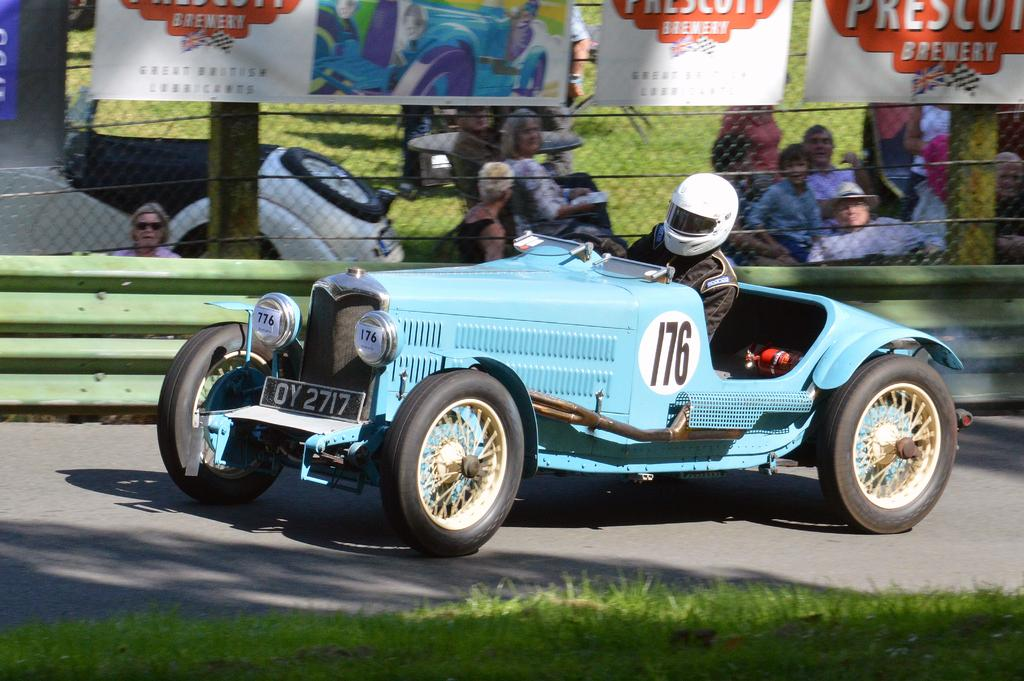helmet: (663, 173, 739, 257)
nohelmet: (825, 181, 880, 234), (129, 201, 171, 252), (477, 161, 518, 213), (503, 107, 544, 159), (777, 142, 815, 186), (802, 123, 836, 170)
